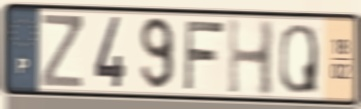4: (91, 14, 128, 91)
9: (138, 14, 177, 94)
F: (181, 18, 227, 92)
H: (226, 14, 277, 99)
Q: (277, 21, 320, 96)
Z: (39, 11, 85, 90)
